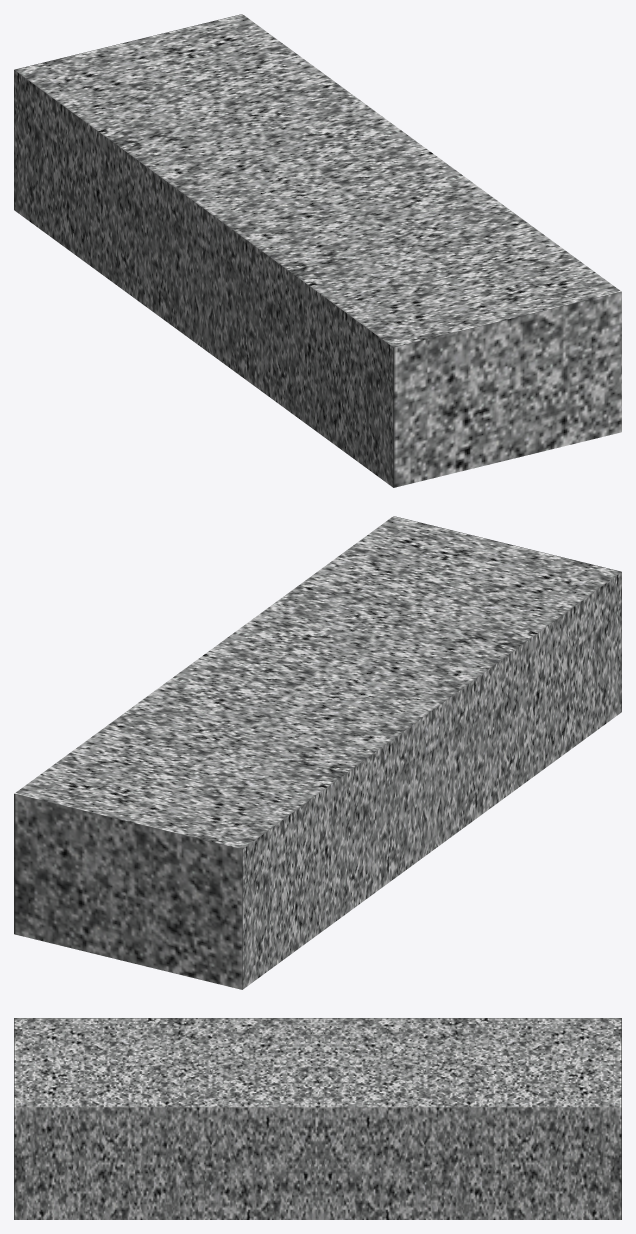
File: SM_Ssang_Dae_Step.fbx
3 renders of one model, top to bottom at view 1: azimuth 30°, elevation 25°; view 2: azimuth 150°, elevation 25°; view 3: azimuth 270°, elevation 25°, orthographic. The views are drawn at different scales.
Parts seen in each view (by area): view 1: SM_Ssang_Dae_Step; view 2: SM_Ssang_Dae_Step; view 3: SM_Ssang_Dae_Step.
Part boxes in pixels (x1,y1,x2,y2): SM_Ssang_Dae_Step: [14, 14, 621, 487]; SM_Ssang_Dae_Step: [14, 516, 621, 989]; SM_Ssang_Dae_Step: [14, 1018, 621, 1219].
Size of the model in its own units: 34.05 by 20 by 98.02.
